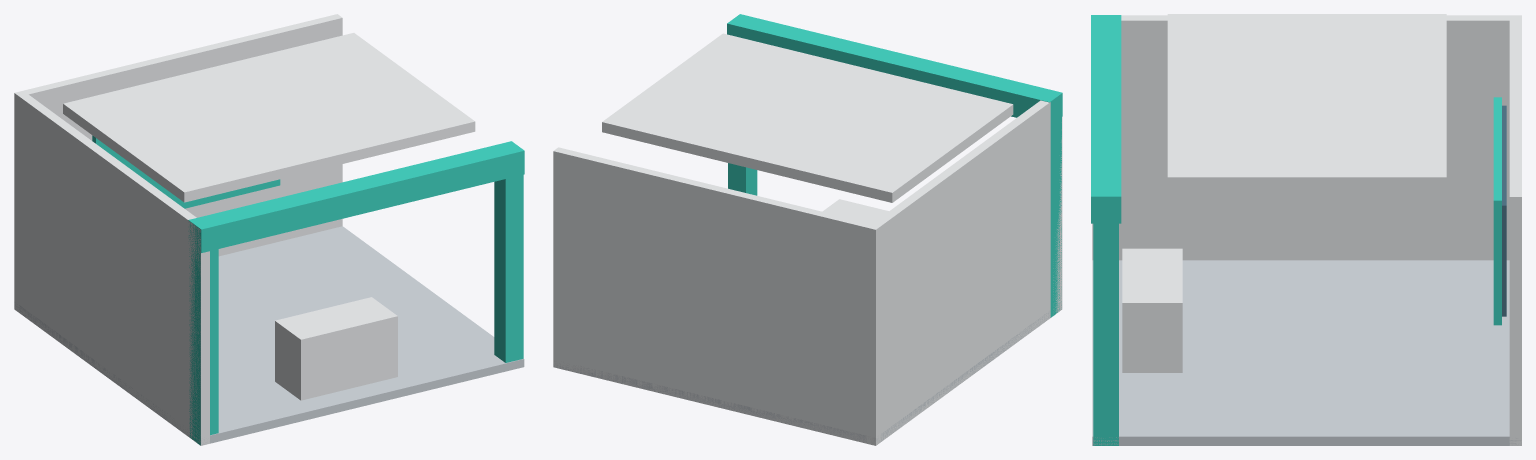
The picture shows the model from 3 angles, left to right: view 1: azimuth 30°, elevation 25°; view 2: azimuth 150°, elevation 25°; view 3: azimuth 270°, elevation 25°; orthographic projection. The views are drawn at different scales.
Visible parts, largest first — view 1: Exhibition Booth Concept; view 2: Exhibition Booth Concept; view 3: Exhibition Booth Concept.
Boxes of the visible parts, x1,y1,x2,y2 form: Exhibition Booth Concept: [14, 14, 524, 445]; Exhibition Booth Concept: [553, 14, 1062, 445]; Exhibition Booth Concept: [1091, 14, 1521, 445].
Bounding box in the file's own units: 5 × 3.34 × 5.02.
